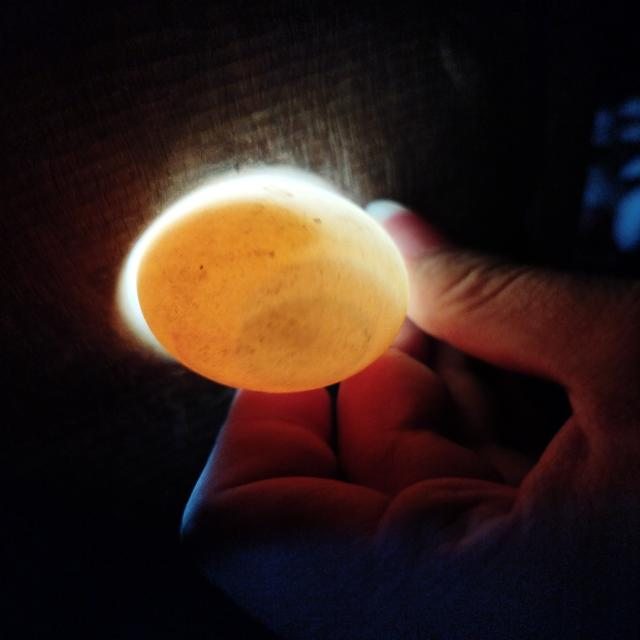Camara de Ar: (241, 307, 369, 383)
